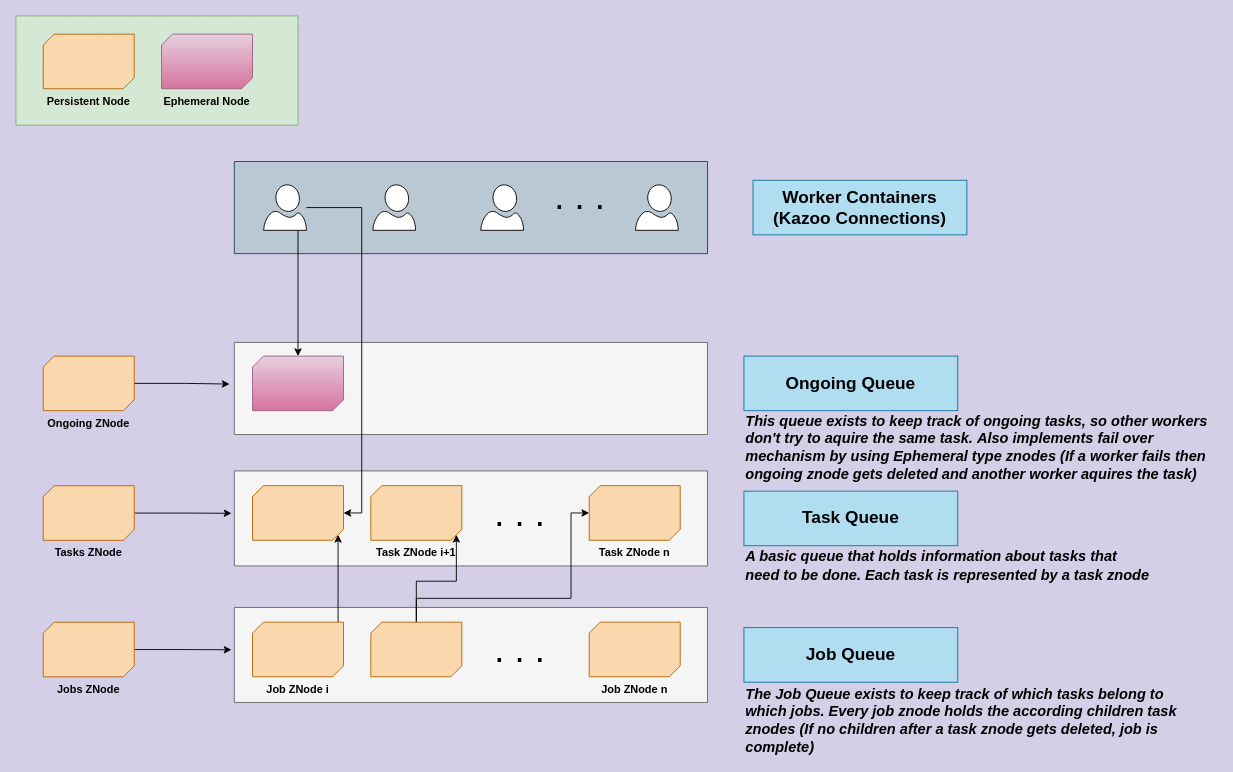
The diagram is 1233 pixels wide and 772 high, and some of its shapes have lost their labels. The shapes that lost their labels are listed below. From the top down, each one's centre as x and y in pixels, then its label:
At (x=298, y=383): "Ongoing ZNode i".
At (x=298, y=512): "Task ZNode i".
At (x=416, y=649): "Job ZNode i+1".
